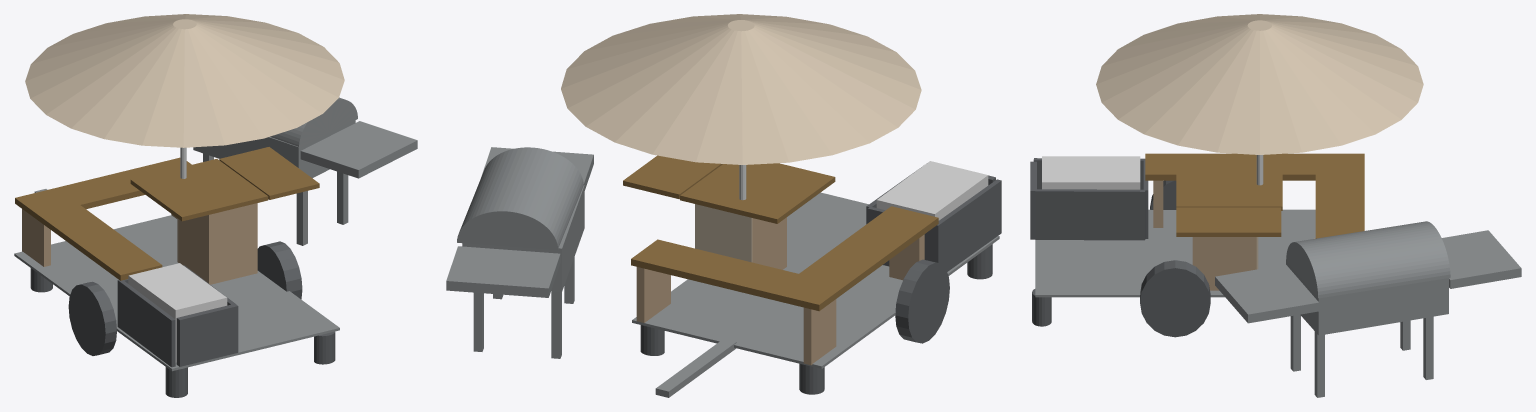
File: kuisti.glb
3 renders of one model, left to right at view 1: azimuth 30°, elevation 25°; view 2: azimuth 150°, elevation 25°; view 3: azimuth 270°, elevation 25°, orthographic. The views are drawn at different scales.
Visible parts, largest first — view 1: Mesh_Mesh_head_geo.001_lambert2SG.001; view 2: Mesh_Mesh_head_geo.001_lambert2SG.001; view 3: Mesh_Mesh_head_geo.001_lambert2SG.001.
Boxes of the visible parts, bbox=[...] form: Mesh_Mesh_head_geo.001_lambert2SG.001: bbox=[14, 14, 417, 397]; Mesh_Mesh_head_geo.001_lambert2SG.001: bbox=[446, 14, 1001, 397]; Mesh_Mesh_head_geo.001_lambert2SG.001: bbox=[1030, 14, 1521, 397].
Size of the model in its own units: 176 by 125 by 197.
